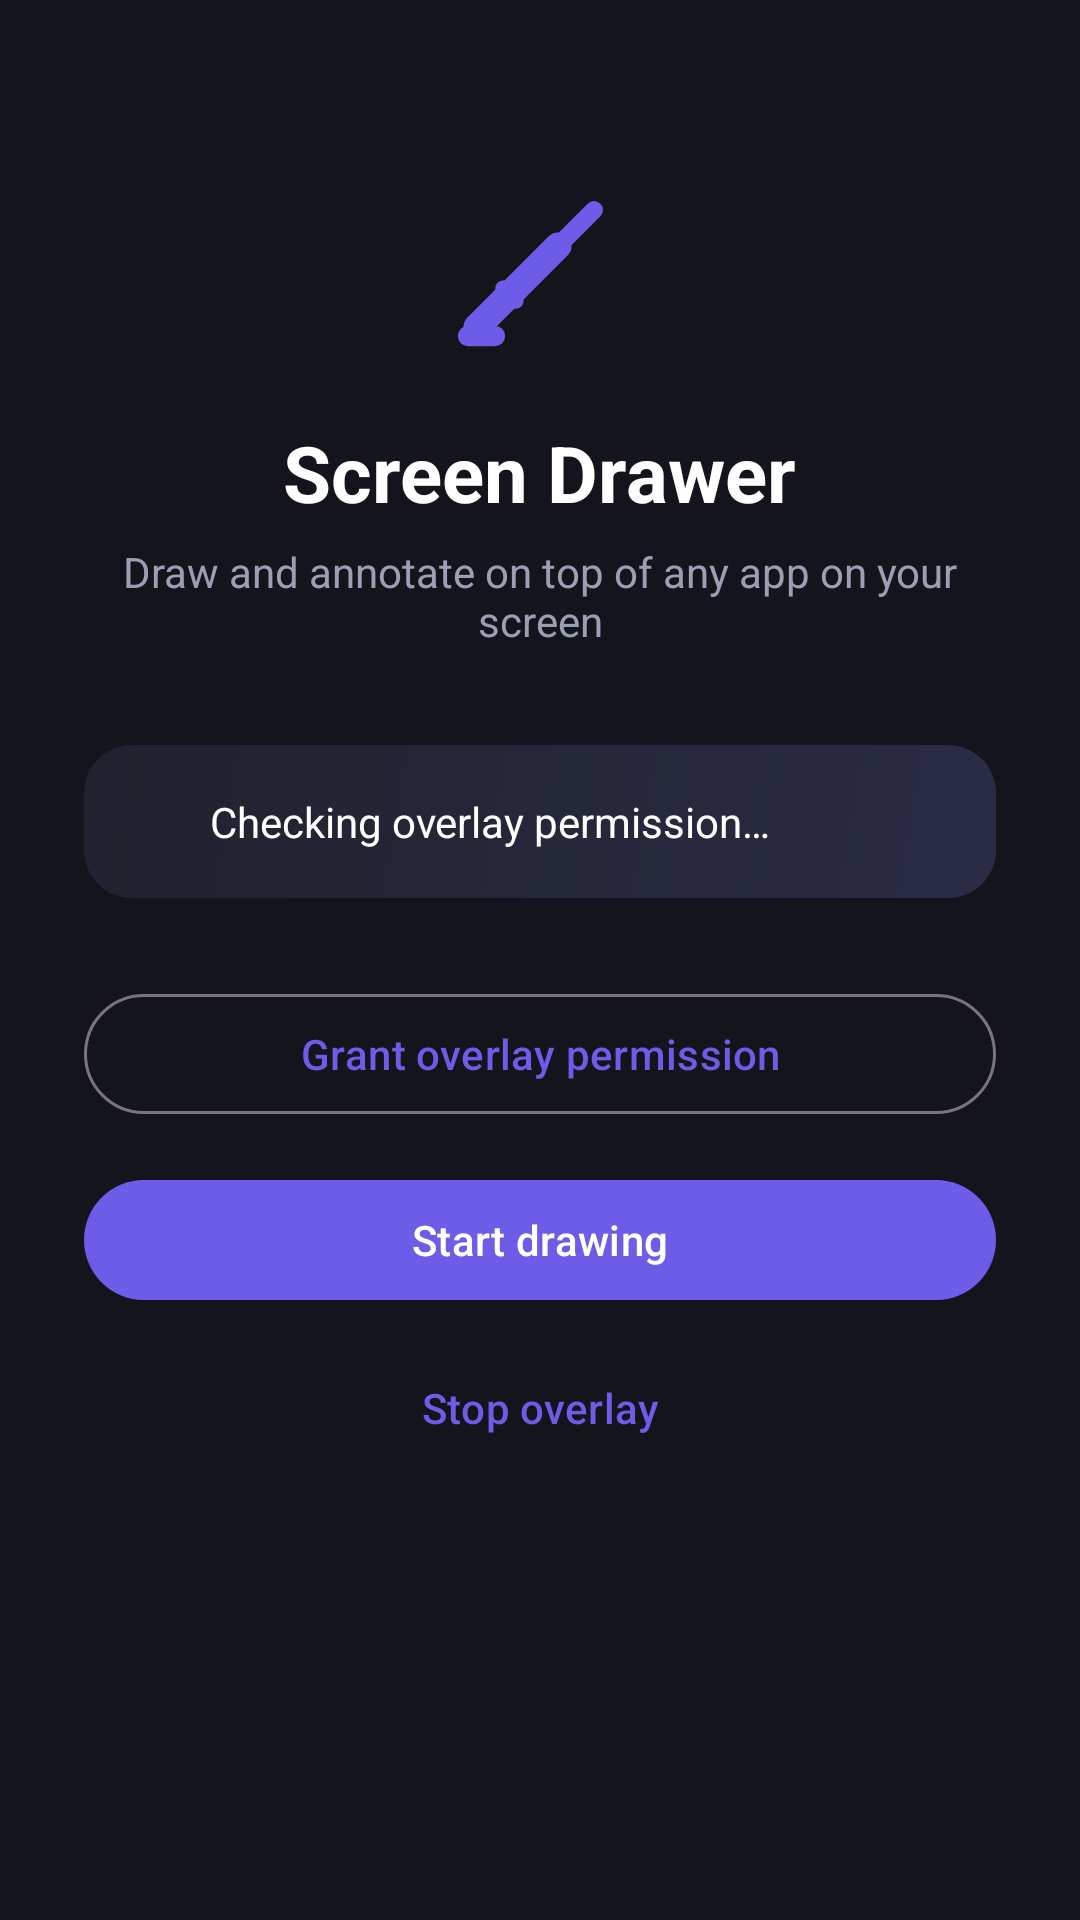

Named icons in this screenshot (1080px×1920px) and their bounding boxes, (x1, y1, x2, y2):
pen: (458, 201, 603, 347)
